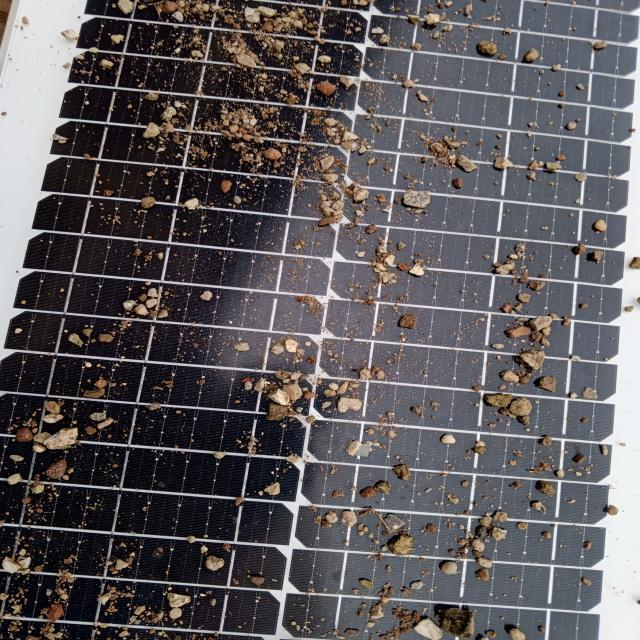Surface Contaminant: (21, 6, 629, 637)
